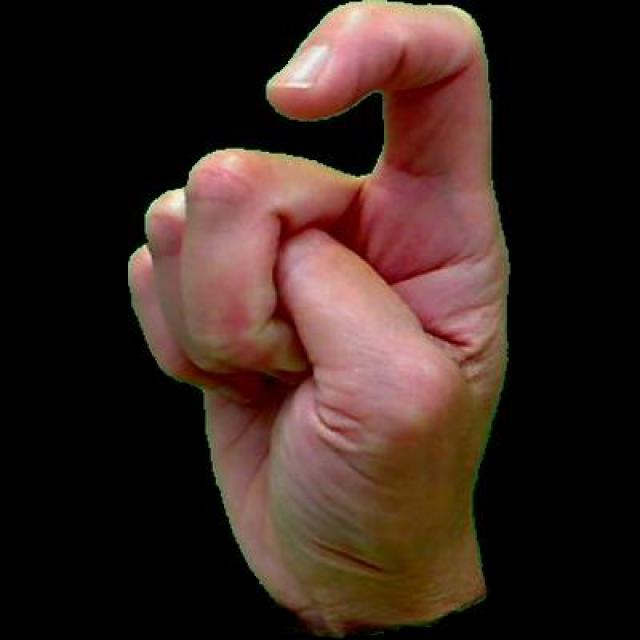x: (123, 0, 510, 637)
